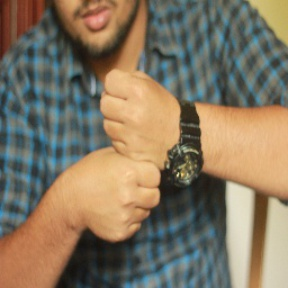G: (75, 60, 178, 248)
